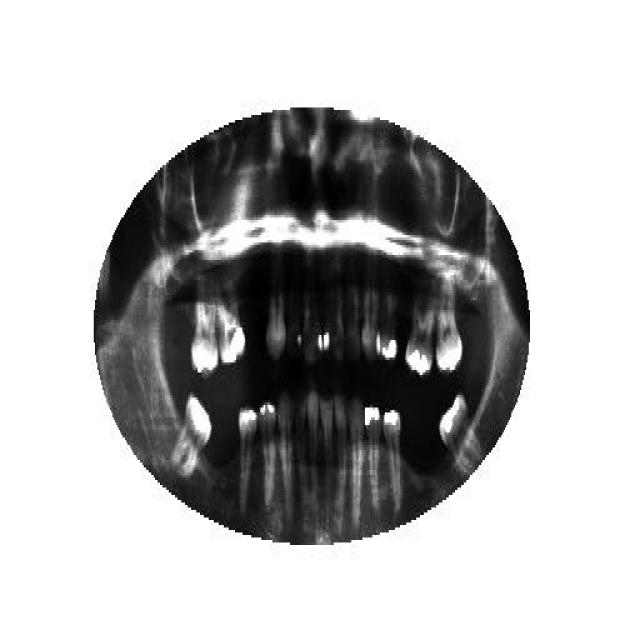Fillings: (438, 392, 482, 478), (407, 290, 432, 378), (258, 402, 278, 512), (383, 407, 405, 505), (363, 402, 382, 512), (376, 285, 399, 363)
